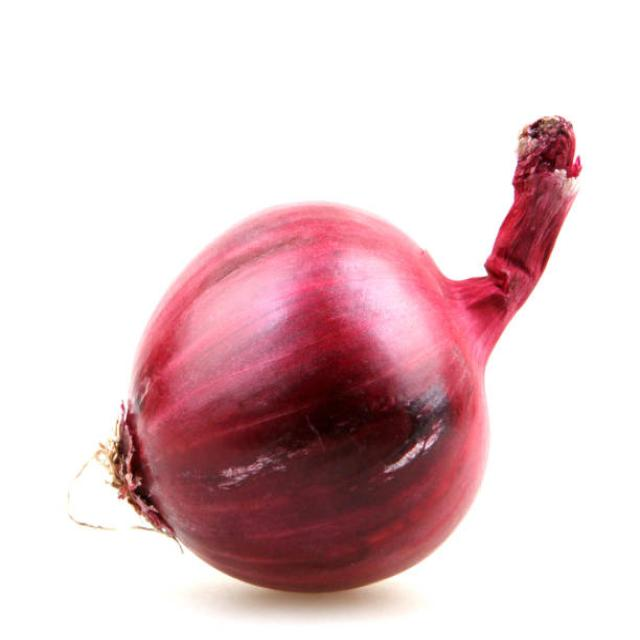onion: (112, 203, 496, 583)
